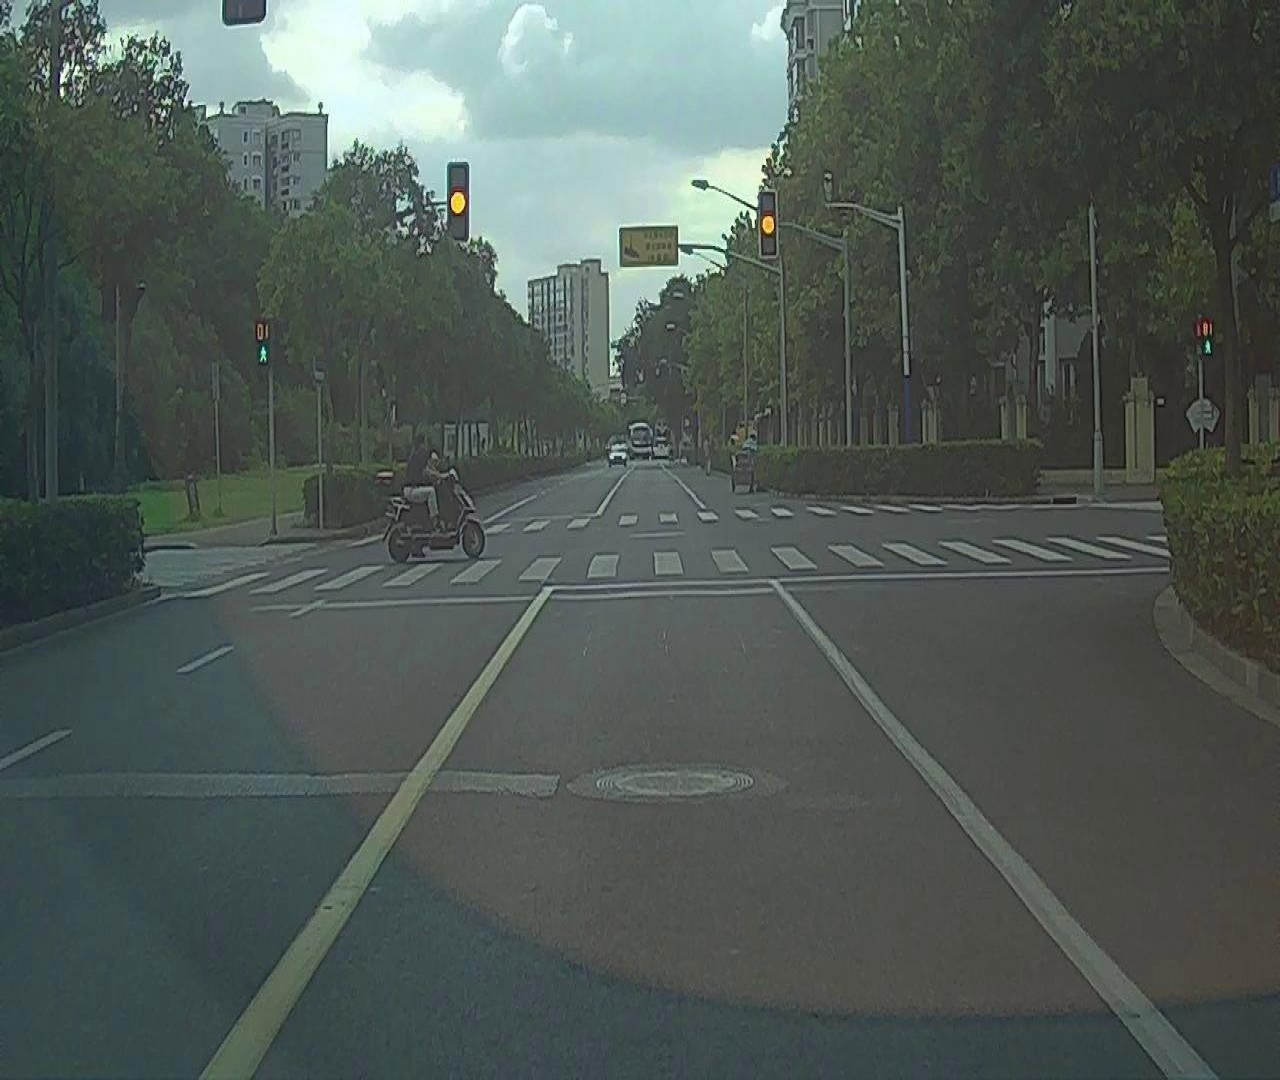yellow: (449, 162, 468, 241), (761, 192, 775, 256)
